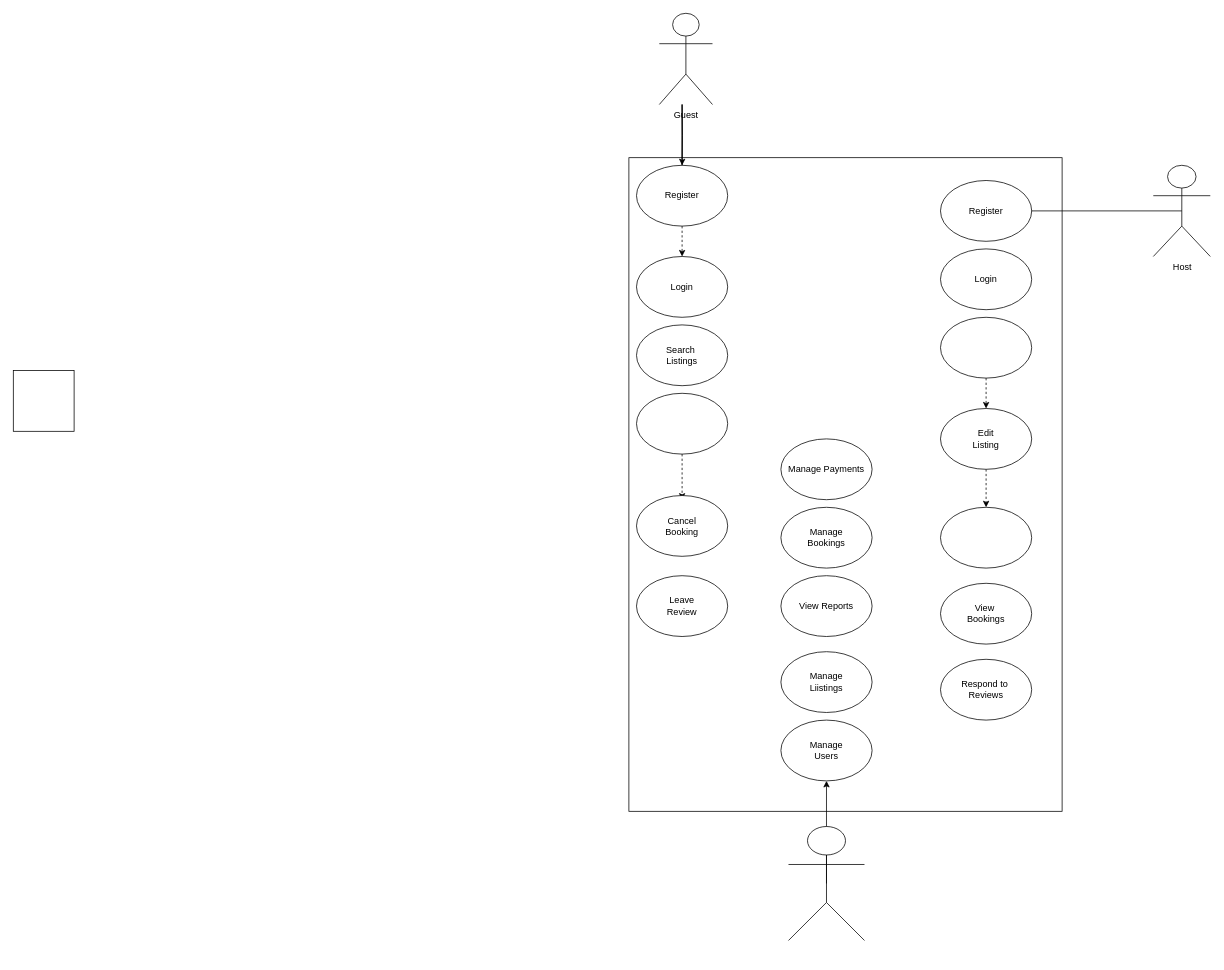
Image size: 1224x970. Some labels were removed from this diagram. The shapes that lost their labels are listed below. From the top down, each one's box as (x1, y1, x2, y2) in pixels, then its label:
(940, 317, 1032, 378): Add Listing
(636, 393, 728, 454): Book Property
(940, 507, 1032, 568): Delete Listing
(788, 826, 864, 940): Admin
